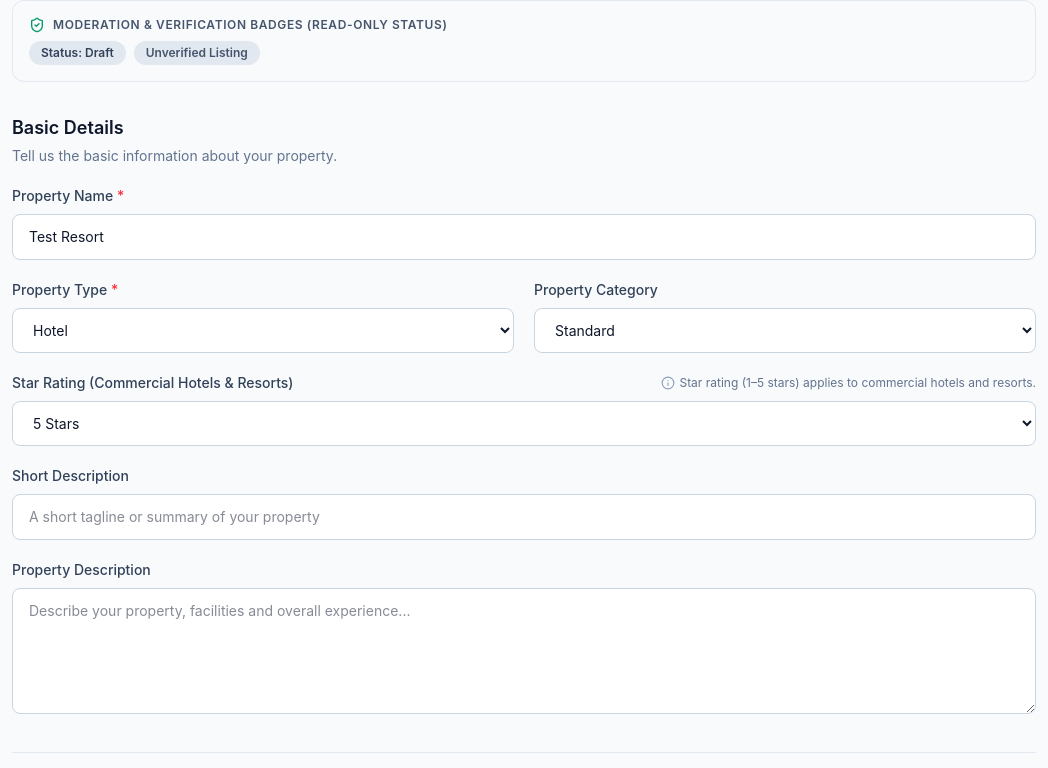
Scenario: Property Type State Reset Rules › resets star rating when changing property type from Hotel to Villa
Select "Villa" in the dropdown labelled "Property Type *". click: {"x": 263, "y": 330}
box: [12,308,514,353]
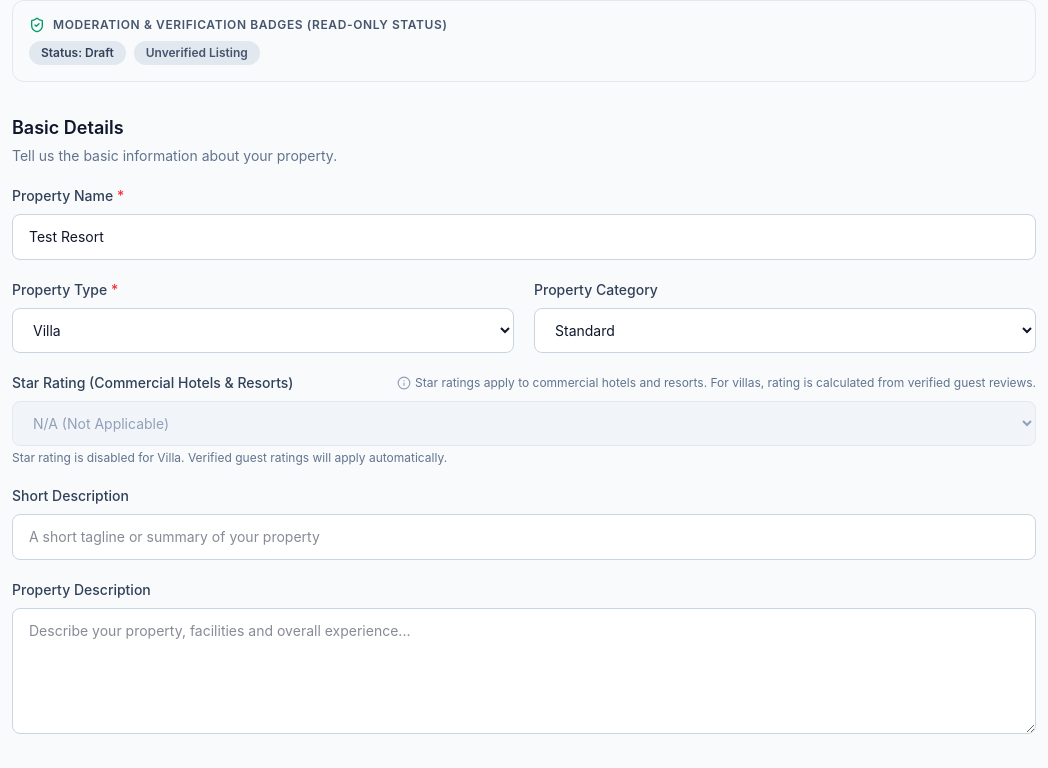
expect the dropdown labelled "Star Rating" is disabled: met, box [12,401,1036,446]
expect the dropdown labelled "Star Rating" shows "N/A (Not Applicable)": met, box [12,401,1036,446]
